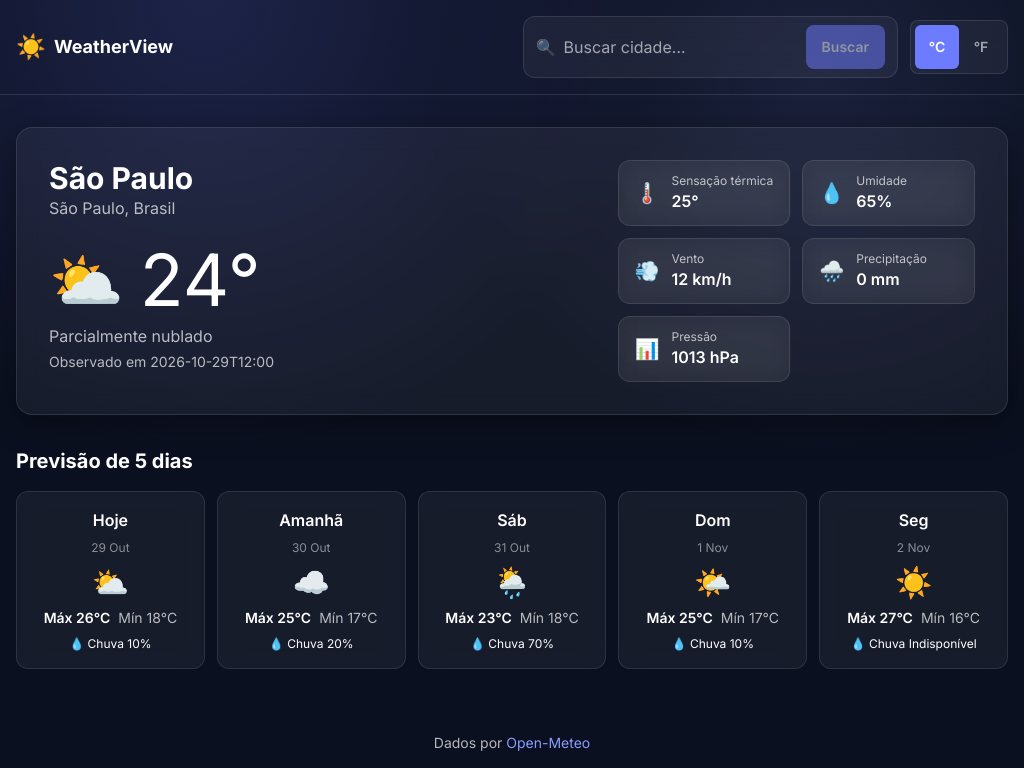
App › renderiza dados do hook e deriva temperaturas na unidade selecionada
This screenshot has width=1024, height=768.
Expected: the element named "Clima atual" is shown, x1=16 y1=127 x2=1008 y2=415
Expected: the text "24°" is shown, x1=140 y1=244 x2=261 y2=316
Click the button "°F": (981,47) x1=959 y1=25 x2=1003 y2=69
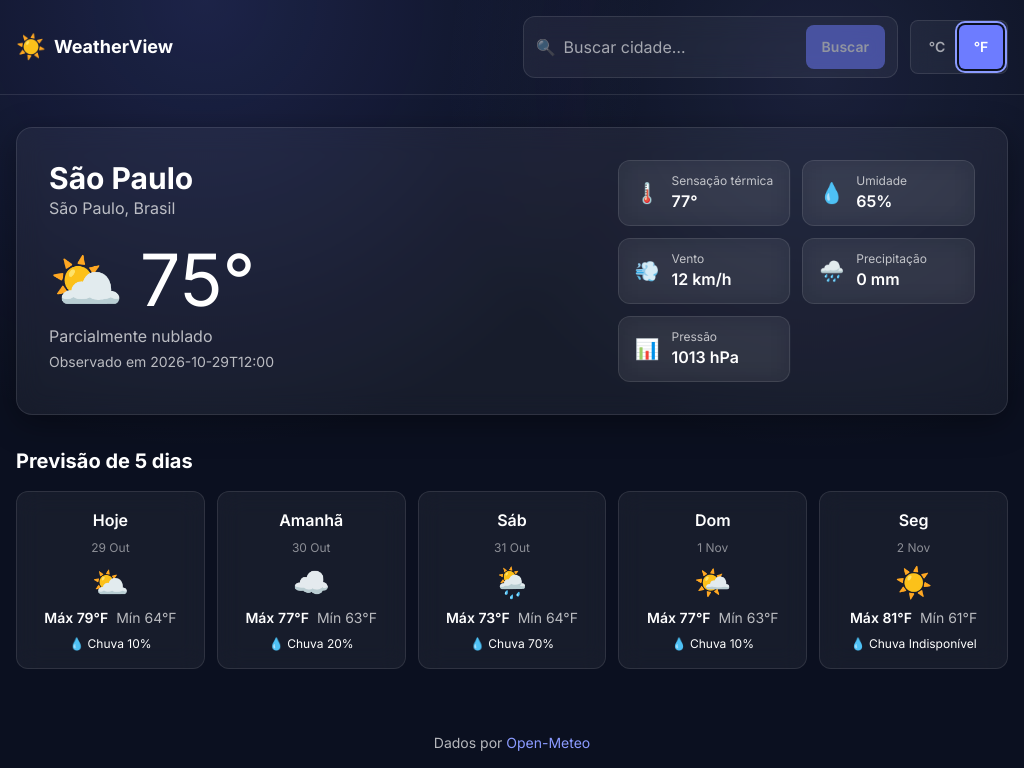
Result: the text "75°" is shown at x1=140 y1=244 x2=256 y2=316
